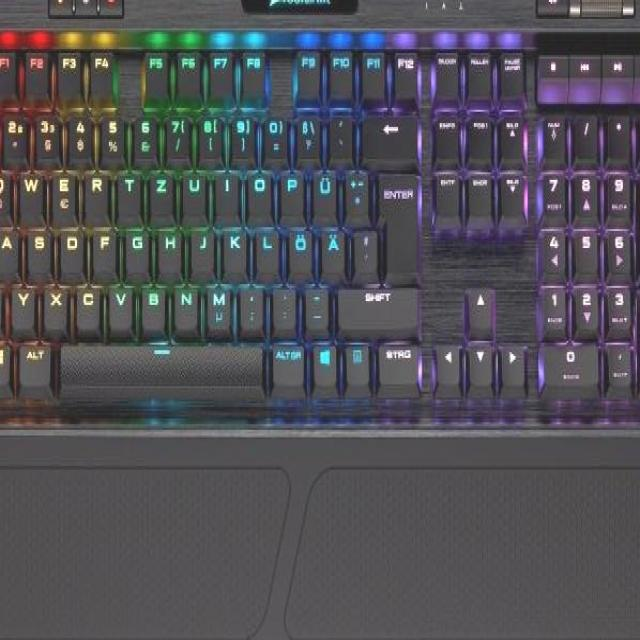0: (261, 110, 287, 159)
1: (0, 110, 12, 157)
2: (0, 110, 26, 159)
3: (32, 110, 58, 159)
4: (66, 108, 91, 159)
5: (98, 110, 125, 161)
6: (131, 110, 156, 161)
7: (163, 110, 188, 159)
8: (196, 110, 221, 159)
9: (228, 110, 255, 159)
a: (0, 222, 17, 273)
accent: (326, 108, 351, 157)
ae: (319, 224, 343, 273)
alt-left: (16, 337, 50, 384)
altgr-right: (270, 337, 303, 386)
b: (139, 281, 165, 330)
c: (74, 280, 99, 328)
caret: (0, 110, 11, 155)
comma: (238, 280, 261, 328)
d: (57, 224, 82, 273)
del: (360, 110, 416, 157)
e: (49, 165, 75, 218)
enter: (375, 167, 418, 277)
f: (90, 223, 114, 271)
g: (123, 223, 148, 271)
h: (155, 224, 180, 273)
hash: (352, 223, 375, 269)
i: (213, 167, 238, 214)
j: (188, 223, 212, 271)
k: (221, 222, 245, 273)
keyboard: (0, 26, 640, 428)
l: (253, 224, 278, 273)
less: (0, 279, 12, 328)
m: (203, 281, 230, 330)
minus: (302, 281, 326, 330)
n: (171, 280, 197, 328)
o: (244, 167, 271, 216)
oe: (286, 224, 310, 273)
p: (278, 165, 303, 216)
plus: (343, 165, 367, 218)
point: (271, 282, 294, 326)
q: (0, 165, 13, 218)
r: (81, 167, 108, 218)
s: (25, 224, 49, 273)
shift-left: (0, 280, 16, 328)
shift-lock: (0, 223, 24, 271)
shift-right: (335, 282, 416, 328)
space: (57, 339, 263, 388)
ss: (293, 108, 319, 159)
strg-left: (0, 336, 21, 384)
strg-right: (375, 337, 419, 384)
t: (115, 167, 139, 216)
tab: (0, 165, 19, 214)
u: (180, 167, 205, 218)
ue: (310, 165, 335, 218)
v: (107, 280, 132, 328)
w: (17, 167, 43, 220)
x: (42, 280, 66, 328)
y: (10, 282, 33, 328)
z: (147, 165, 172, 218)
